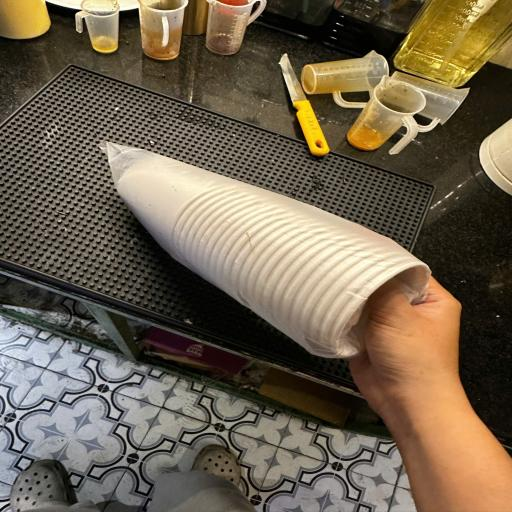ly_giay: (72, 129, 454, 366)
